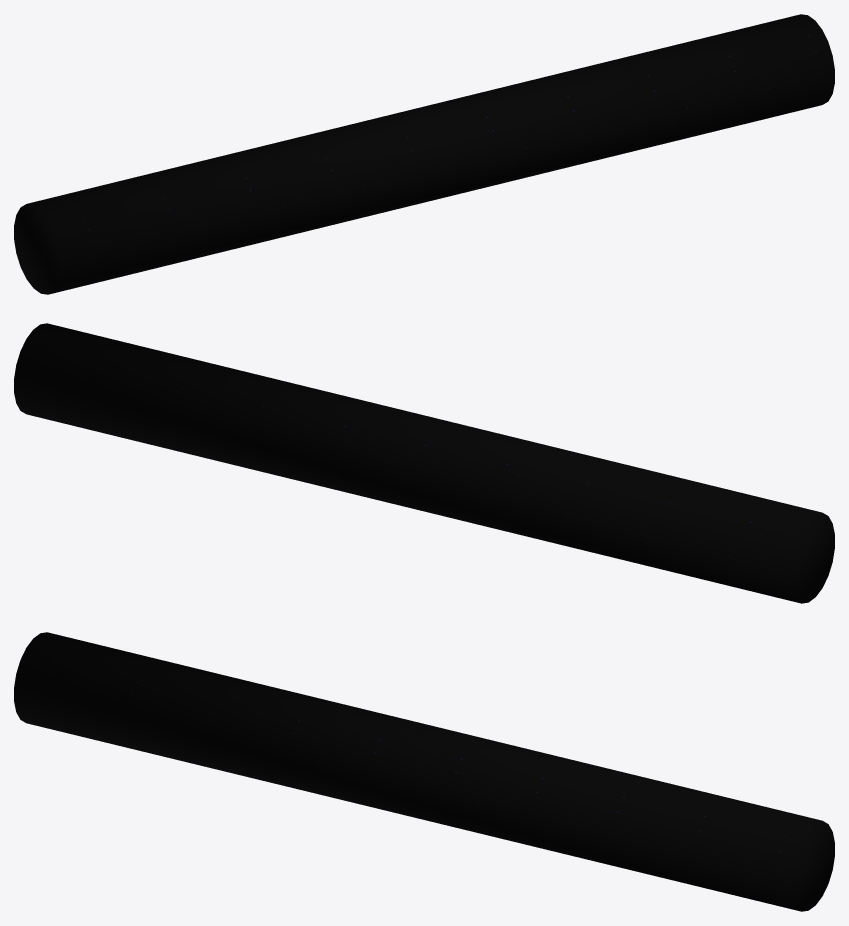
File: tower2-weapon.fbx
The picture shows the model from 3 angles, top to bottom: view 1: azimuth 30°, elevation 25°; view 2: azimuth 150°, elevation 25°; view 3: azimuth 330°, elevation 25°; orthographic projection.
Visible parts, largest first — view 1: Cylinder; view 2: Cylinder; view 3: Cylinder.
Boxes of the visible parts, x1,y1,x2,y2 form: Cylinder: (14,14,834,294); Cylinder: (14,323,834,603); Cylinder: (14,632,834,911).
Bounding box in the file's own units: 3.24 × 0.3351 × 0.3357.
1 material, 1 textured.
